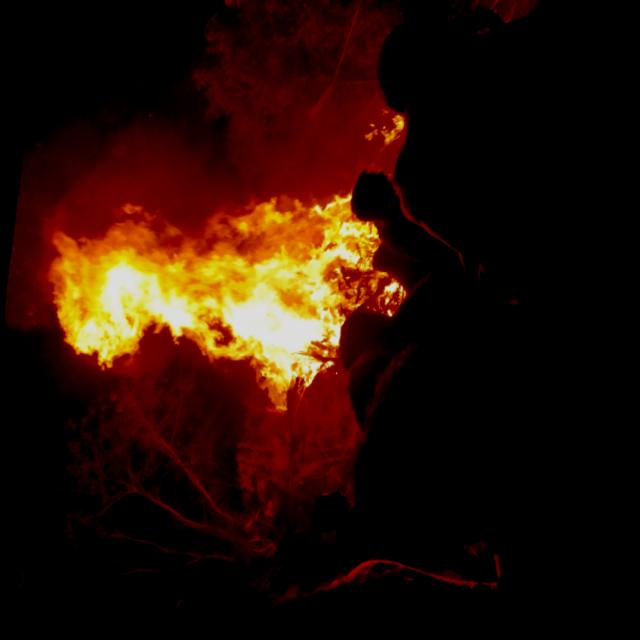Fire: (19, 148, 420, 450), (358, 110, 408, 161)
